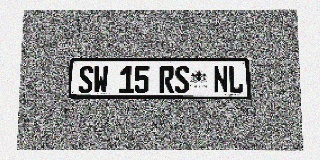1: (119, 66, 134, 93)
5: (134, 66, 149, 93)
L: (228, 66, 243, 93)
N: (213, 66, 228, 93)
R: (160, 66, 174, 93)
S: (78, 66, 93, 93), (175, 66, 189, 93)
W: (93, 66, 108, 93)
